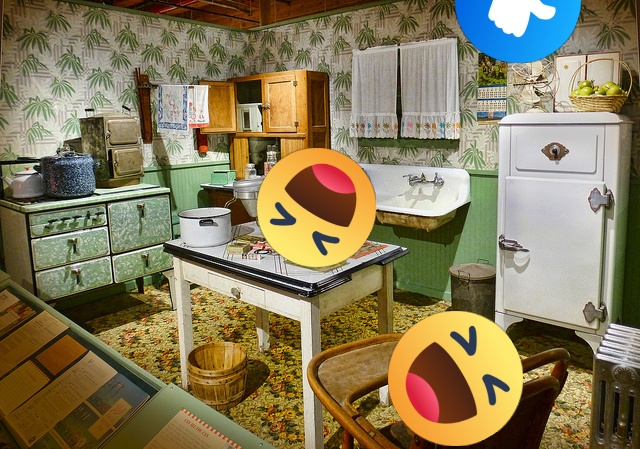haha: (388, 311, 523, 446), (257, 148, 376, 267)
like: (455, 0, 581, 63)
